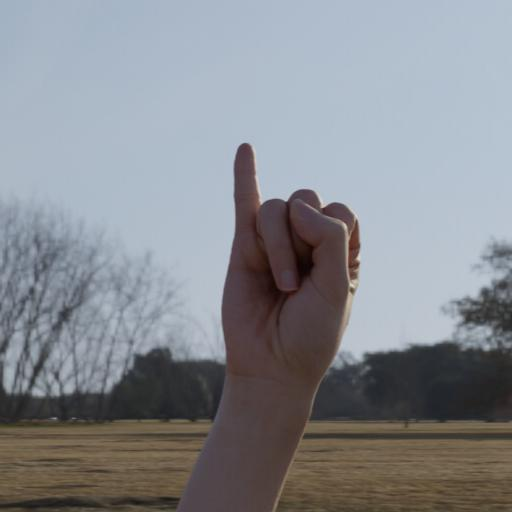I: (215, 139, 370, 409)
